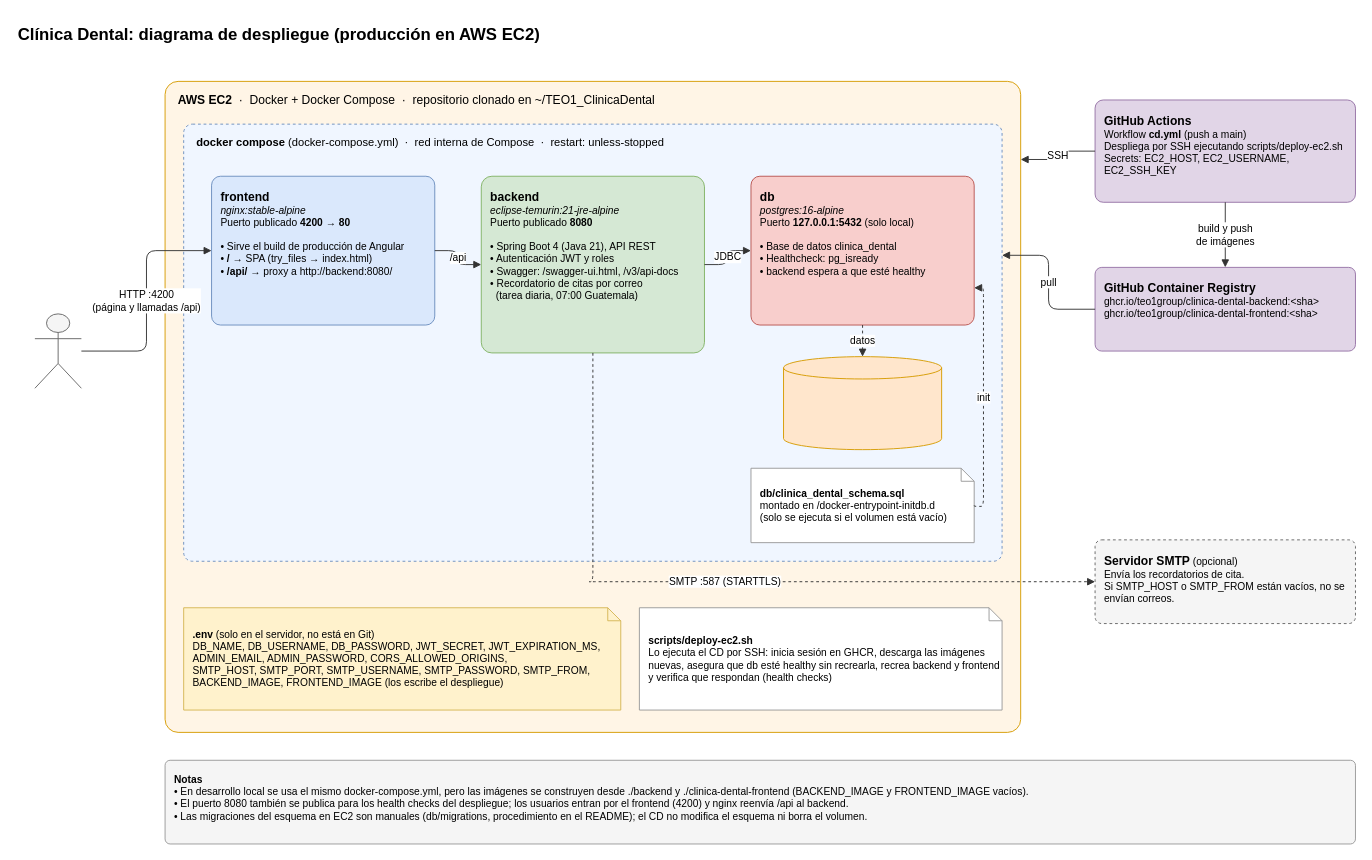
Image size: 1372x860. Some labels were removed from this diagram. The centre of each missing label's shape, as x and y in pixels:
"postgres_data volumen Docker (datos persistentes)" belongs at point 862,403.
"Usuario Navegador web (paciente, doctor, secretaria, admin)" belongs at point 57,350.
